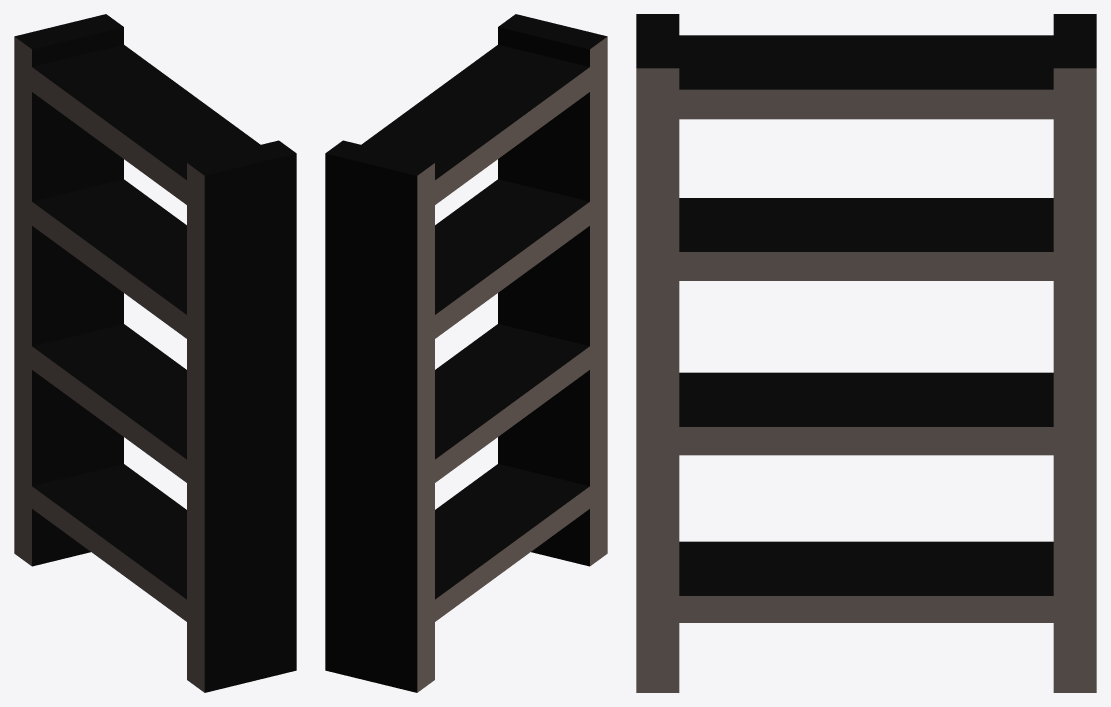
Rendered from Book_shelf_collision.fbx.
3 views of the same model, side by side, from view 1: azimuth 30°, elevation 25°; view 2: azimuth 150°, elevation 25°; view 3: azimuth 270°, elevation 25° (orthographic). The views are drawn at different scales.
Visible parts, largest first — view 1: polySurface282, polySurface283, polySurface281, polySurface280, polySurface279, polySurface278; view 2: polySurface283, polySurface282, polySurface281, polySurface280, polySurface279, polySurface278; view 3: polySurface281, polySurface279, polySurface280, polySurface278, polySurface283, polySurface282.
Boxes of the visible parts, x1=… form: polySurface282: x1=187, y1=140, x2=296, y2=692; polySurface283: x1=14, y1=14, x2=123, y2=566; polySurface281: x1=21, y1=44, x2=260, y2=215; polySurface280: x1=21, y1=179, x2=201, y2=349; polySurface279: x1=21, y1=324, x2=201, y2=493; polySurface278: x1=21, y1=464, x2=201, y2=632; polySurface283: x1=325, y1=140, x2=434, y2=692; polySurface282: x1=498, y1=14, x2=607, y2=566; polySurface281: x1=361, y1=44, x2=589, y2=212; polySurface280: x1=424, y1=179, x2=603, y2=346; polySurface279: x1=424, y1=324, x2=604, y2=490; polySurface278: x1=424, y1=464, x2=604, y2=629; polySurface281: x1=643, y1=35, x2=1079, y2=119; polySurface279: x1=643, y1=372, x2=1079, y2=455; polySurface280: x1=643, y1=198, x2=1079, y2=280; polySurface278: x1=643, y1=541, x2=1079, y2=622; polySurface283: x1=1053, y1=14, x2=1096, y2=692; polySurface282: x1=636, y1=14, x2=679, y2=692.
Size of the model in its own units: 0.6165 by 3.31 by 2.21.
